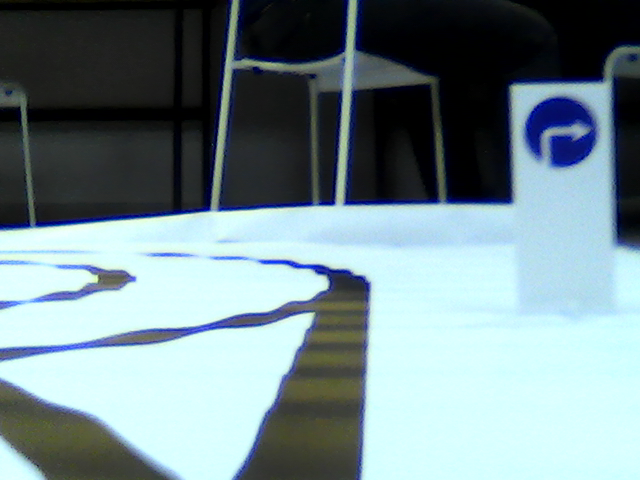Right: (524, 97, 598, 167)
